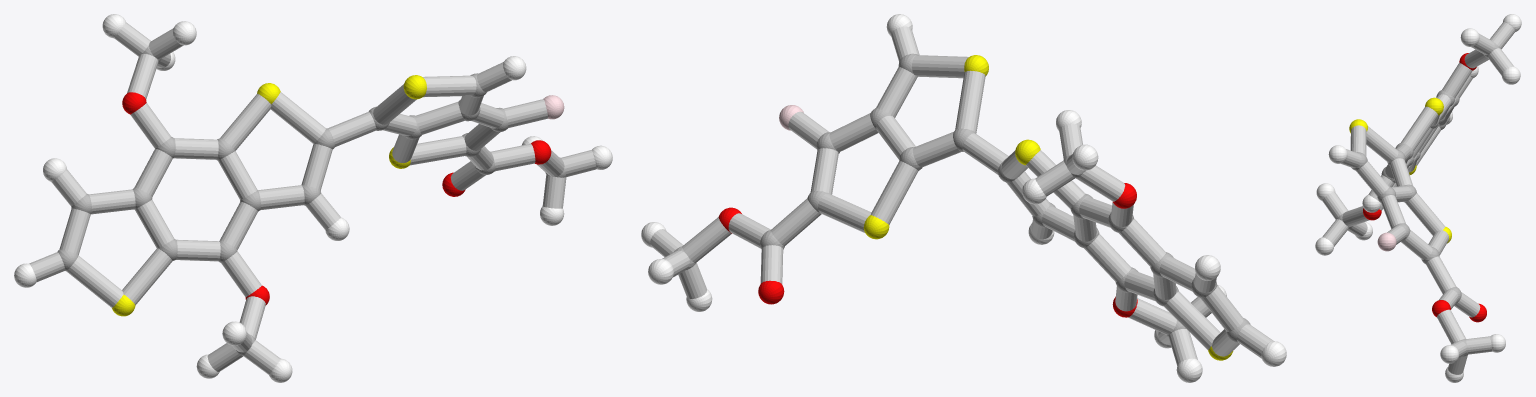
Rendered from Dimethoxy_Benzodithiophene_Phi_10_Theta_250_Methylcarbonyl_3_Fluoro_Thienothiophene.glb.
The picture shows the model from 3 angles, left to right: view 1: azimuth 30°, elevation 25°; view 2: azimuth 150°, elevation 25°; view 3: azimuth 270°, elevation 25°; orthographic projection. The views are drawn at different scales.
Parts seen in each view (by area): view 1: grp15205, grp8689, grp1, grp7241, grp13395; view 2: grp15205, grp8689, grp1, grp7241, grp13395; view 3: grp15205, grp8689, grp1, grp13395, grp7241, grp14843.
Boxes of the visible parts, x1,y1,x2,y2 form: grp15205: [29, 22, 596, 374]; grp8689: [14, 14, 612, 382]; grp1: [57, 45, 566, 355]; grp7241: [112, 75, 426, 316]; grp13395: [122, 92, 551, 305]; grp15205: [650, 26, 1273, 365]; grp8689: [641, 14, 1286, 382]; grp1: [674, 53, 1250, 342]; grp7241: [863, 55, 1233, 360]; grp13395: [718, 183, 1137, 317]; grp15205: [1322, 22, 1515, 374]; grp8689: [1315, 14, 1521, 382]; grp1: [1337, 42, 1500, 356]; grp13395: [1363, 53, 1486, 322]; grp7241: [1349, 97, 1451, 243]; grp14843: [1377, 232, 1396, 251].
Bounding box in the file's own units: 16.98 × 7.96 × 6.55.
